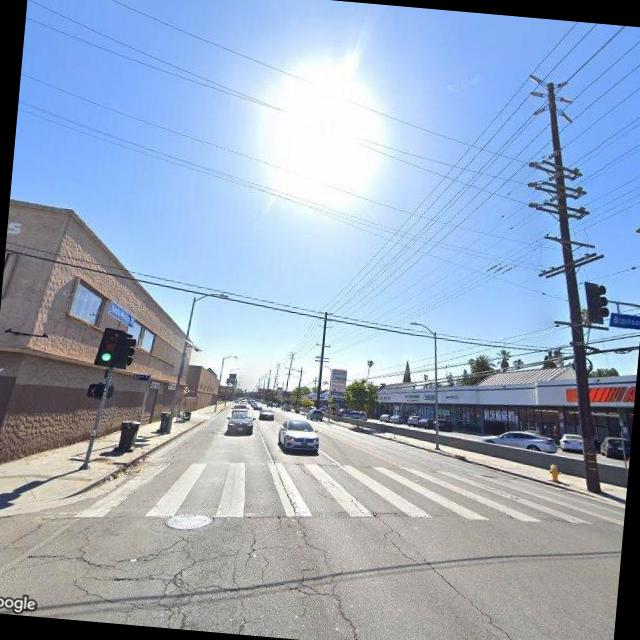crack: (20, 490, 399, 640)
pothole: (363, 511, 569, 640)
